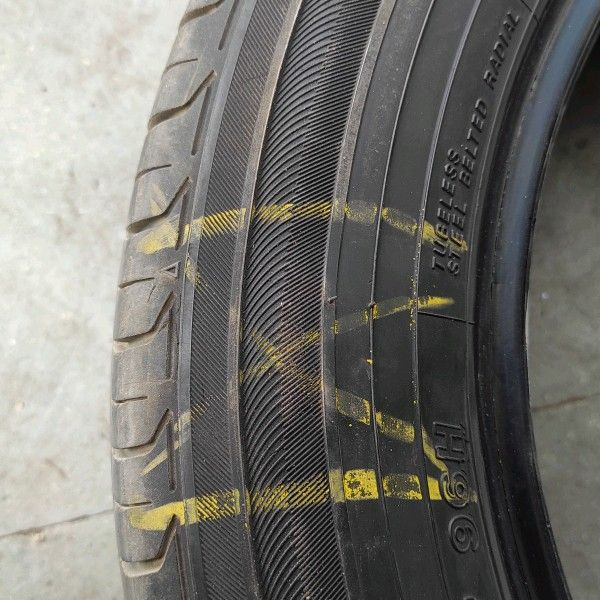CBU: (215, 268, 387, 442)
